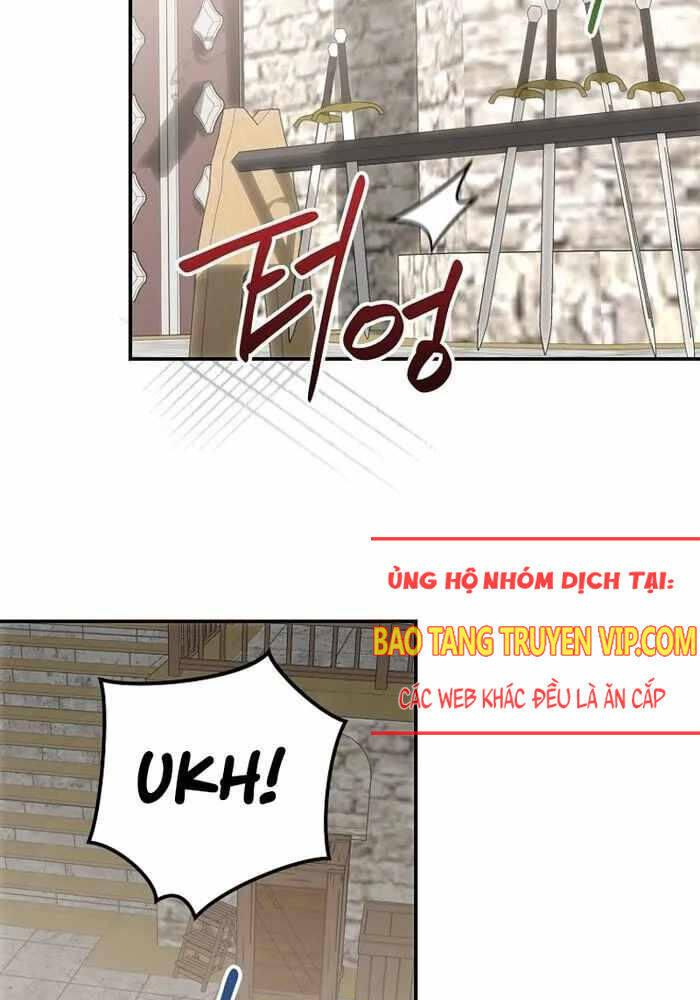quangcao: (370, 536, 700, 736)
